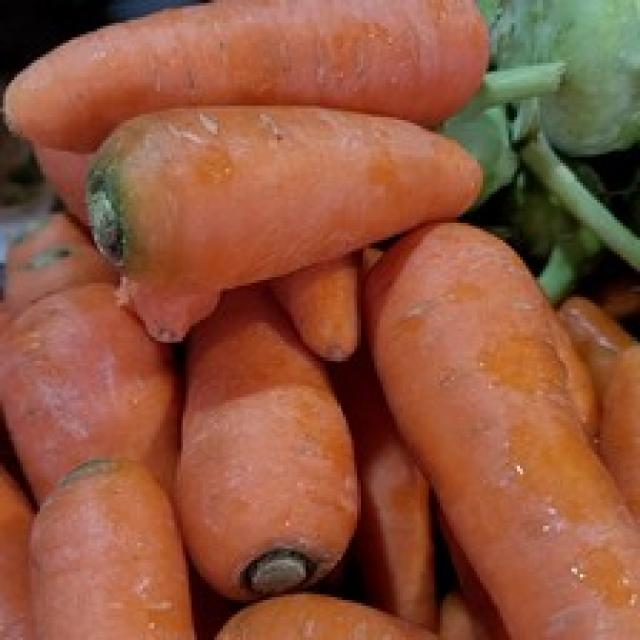Fresh_Carrot: (383, 237, 624, 640), (19, 4, 473, 138), (84, 114, 450, 276), (189, 303, 343, 575), (2, 297, 159, 471), (39, 473, 171, 640)
